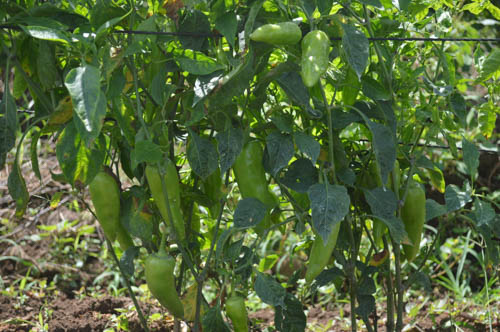ChiliPepper: (145, 159, 183, 237), (140, 257, 186, 317), (237, 141, 267, 230), (307, 220, 341, 291), (371, 159, 398, 247), (90, 174, 121, 243), (399, 182, 426, 261), (299, 32, 328, 92), (253, 21, 298, 49), (204, 167, 220, 217), (226, 293, 246, 326)
